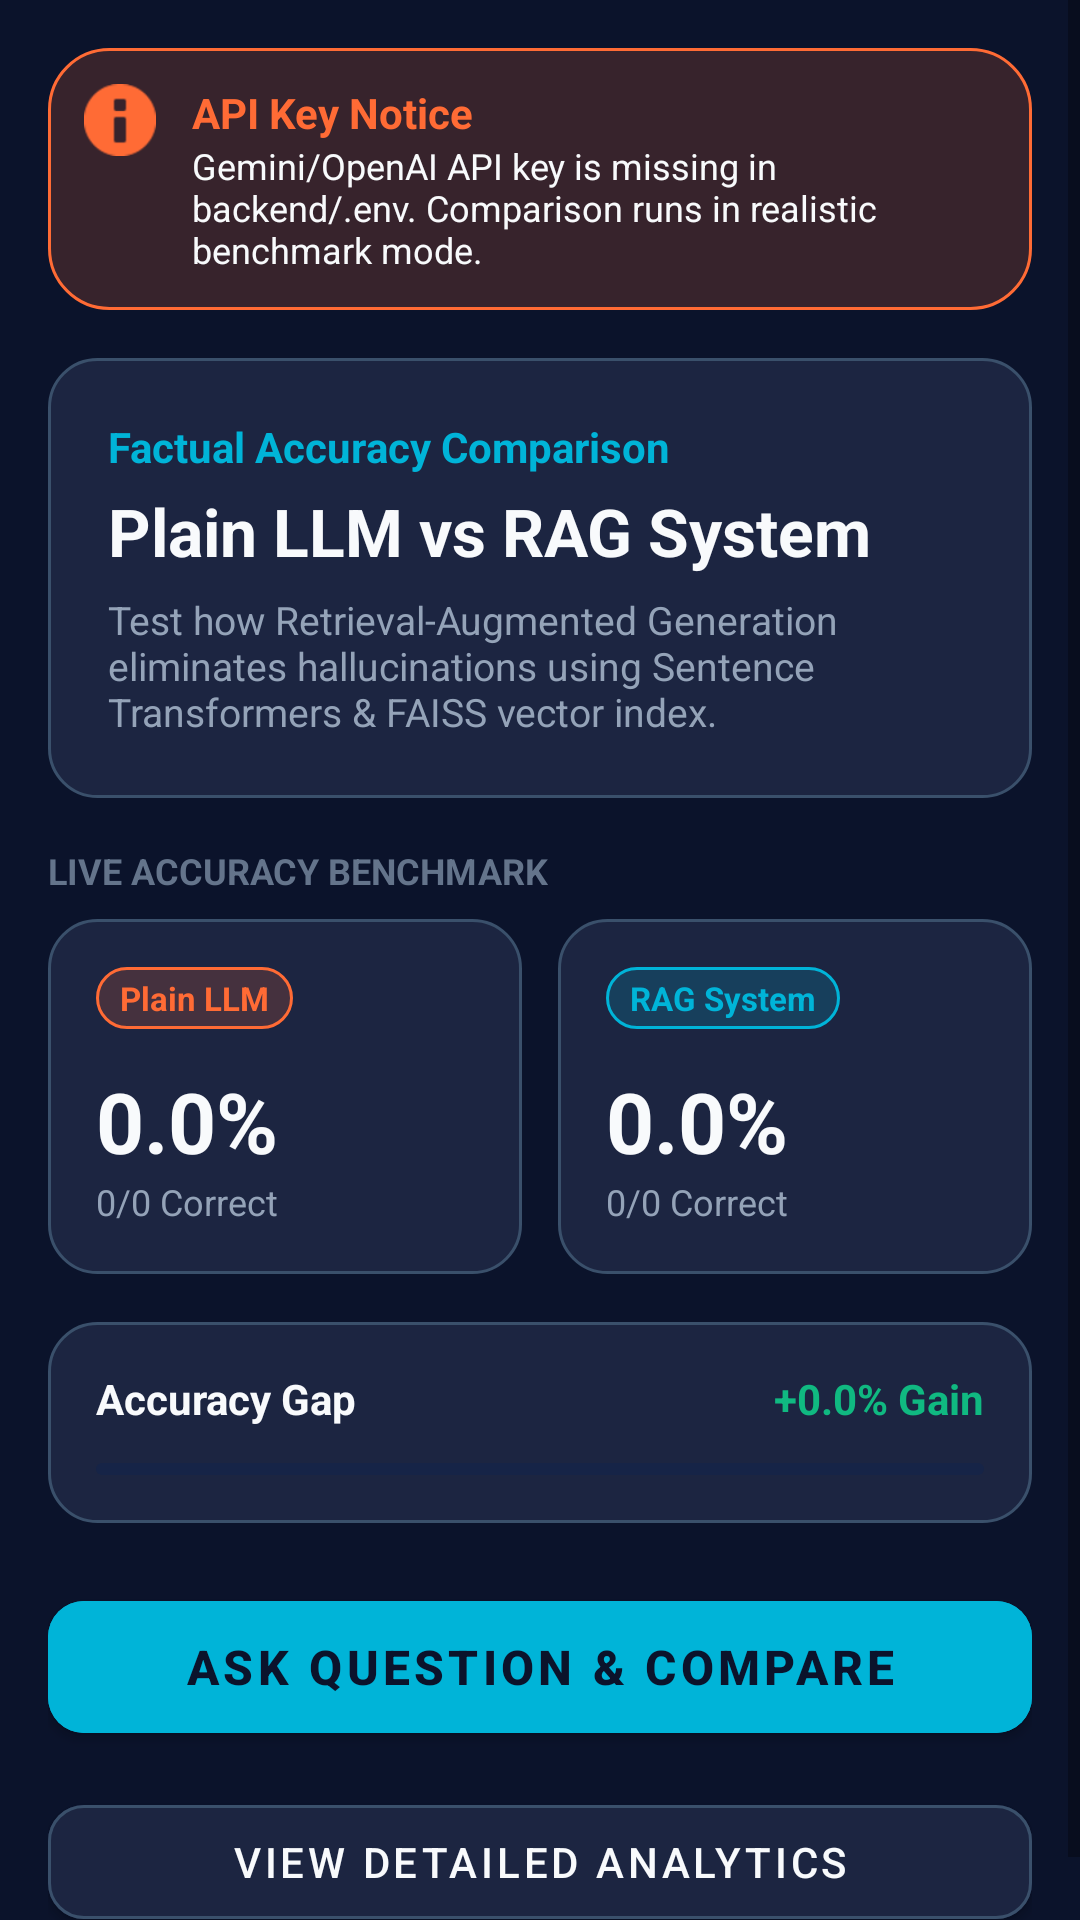

Named icons in this screenshot (1080 × 1920) and their centers, (x=x, y=y):
info: (x=120, y=120)
